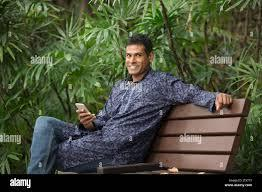Human: (23, 32, 237, 188)
